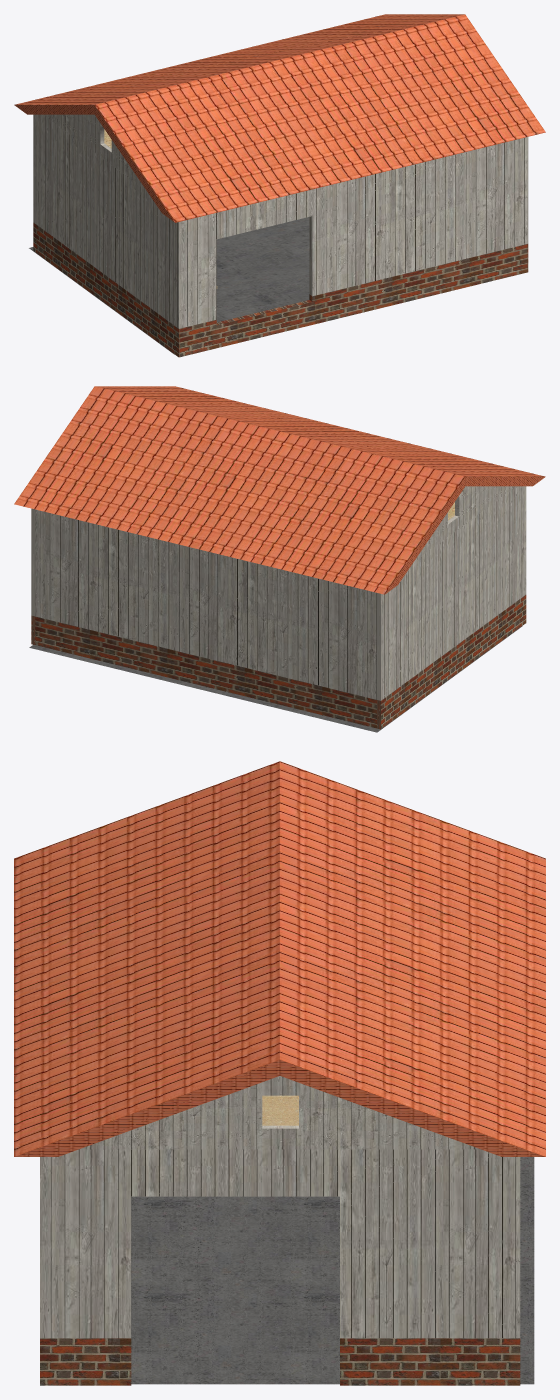
File: Scheune_TexturIncluded.FBX
3 views of the same model, one above another, from view 1: azimuth 30°, elevation 25°; view 2: azimuth 150°, elevation 25°; view 3: azimuth 270°, elevation 25° (orthographic). The views are drawn at different scales.
Parts seen in each view (by area): view 1: Plane001; view 2: Plane001; view 3: Plane001.
Boxes of the visible parts, x1=… form: Plane001: x1=14, y1=14, x2=545, y2=357; Plane001: x1=14, y1=386, x2=545, y2=732; Plane001: x1=14, y1=761, x2=545, y2=1385.
Bounding box in the file's own units: 533 × 279 × 402.
Materials: 5 (5 with a texture image).
